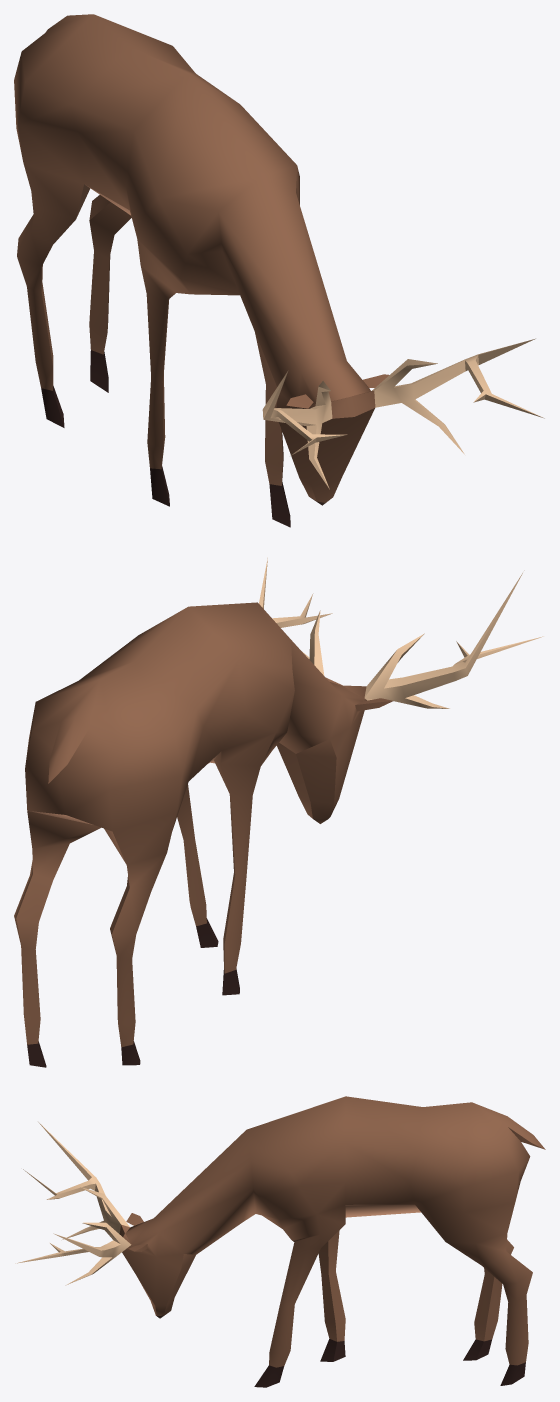
The model's file is scene_eRYIy0xn19.glb.
3 renders of one model, top to bottom at view 1: azimuth 30°, elevation 25°; view 2: azimuth 150°, elevation 25°; view 3: azimuth 270°, elevation 25°, orthographic. The views are drawn at different scales.
Visible parts, largest first — view 1: Deer-ver3; view 2: Deer-ver3; view 3: Deer-ver3.
Boxes of the visible parts, <box> form: Deer-ver3: <box>14,14,544,527</box>; Deer-ver3: <box>14,557,543,1067</box>; Deer-ver3: <box>15,1096,545,1387</box>.
Bounding box in the file's own units: 0.8856 × 1.29 × 2.23.
Materials: 1 (1 with a texture image).
